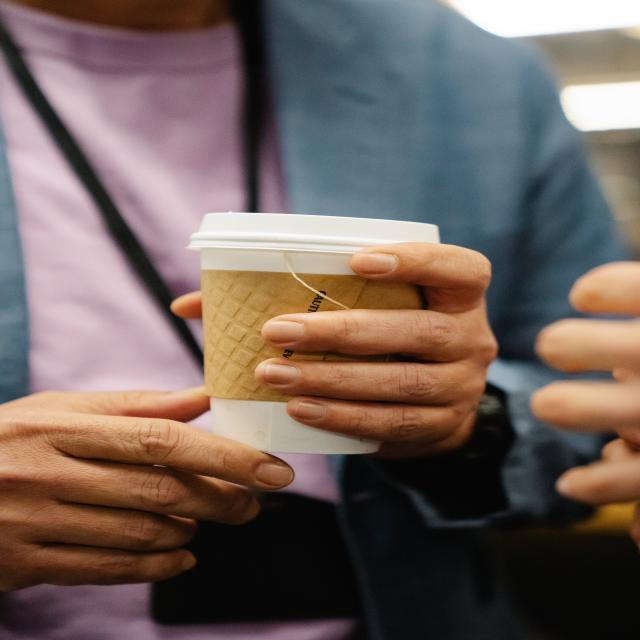cup: (186, 209, 450, 462)
